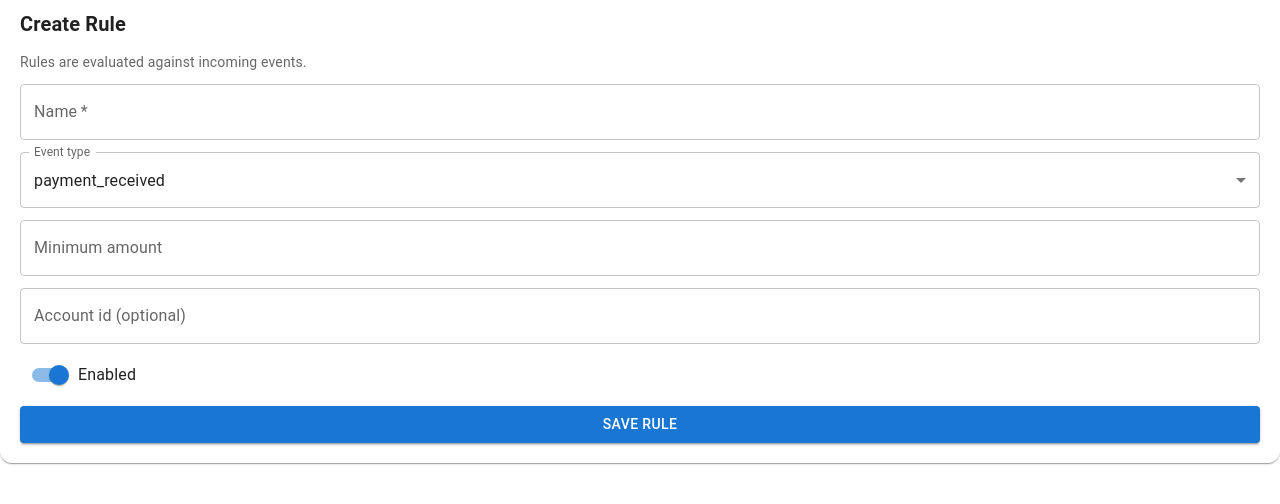
Test: RuleForm › shows validation error for negative minAmount
Type "Test Rule" into the field labelled "Name *" at (640, 112), box [20,84,1260,140]
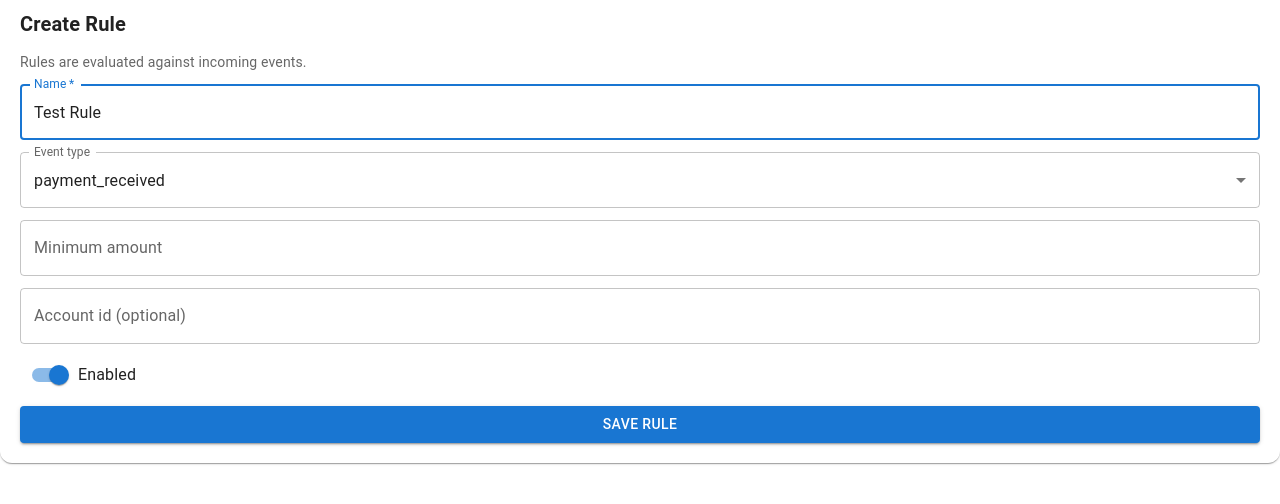
Type "-100" into the number field labelled "Minimum amount" at (640, 248), box [20,220,1260,276]
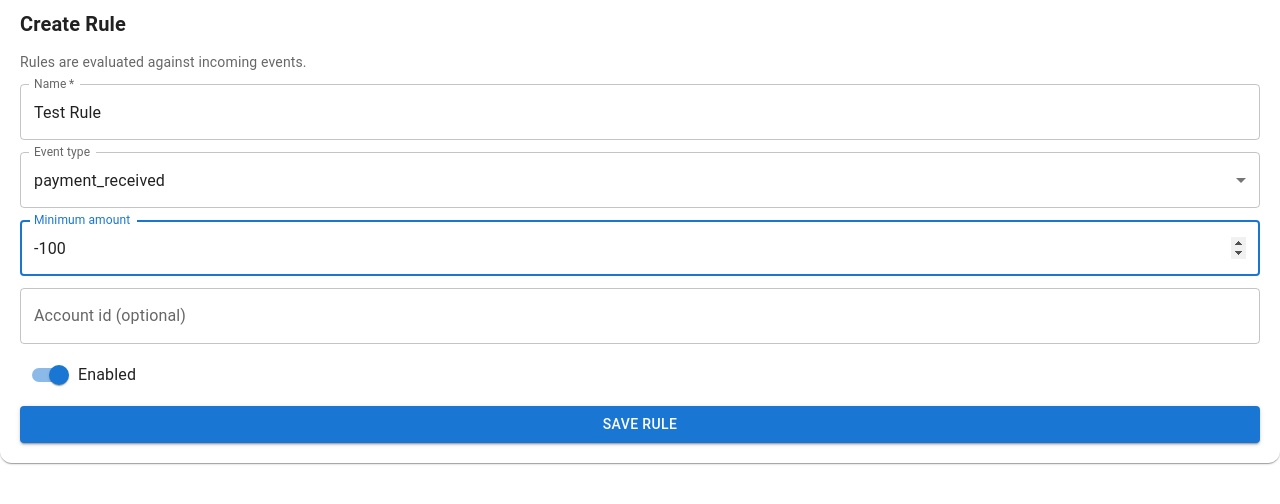
Submit the form named "save rule"
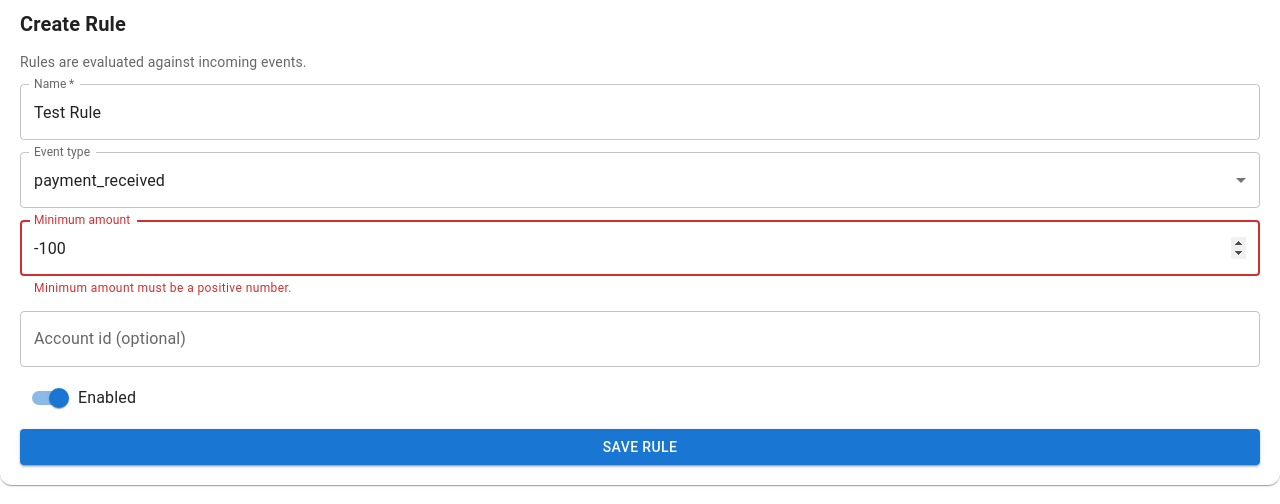
Expected: the text "Minimum amount must be a positive number." is shown, [34,281,292,295]
